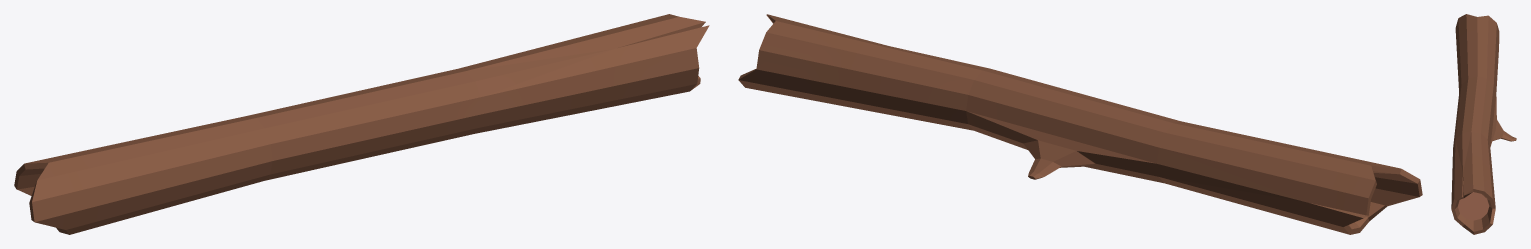
File: mod_bg_RondinMoyenPetit.fbx
The picture shows the model from 3 angles, left to right: view 1: azimuth 30°, elevation 25°; view 2: azimuth 150°, elevation 25°; view 3: azimuth 270°, elevation 25°; orthographic projection. The views are drawn at different scales.
Visible parts, largest first — view 1: RondinMoyenPetit; view 2: RondinMoyenPetit; view 3: RondinMoyenPetit.
Part boxes in pixels (bbox=[...]): RondinMoyenPetit: bbox=[14, 14, 709, 234]; RondinMoyenPetit: bbox=[738, 14, 1422, 234]; RondinMoyenPetit: bbox=[1451, 14, 1516, 234].
Bounding box in the file's own units: 183 × 19.71 × 27.38.
